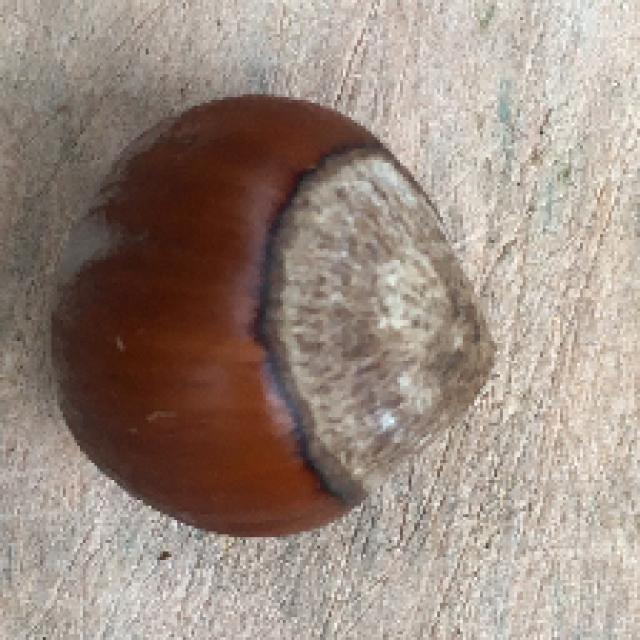QualityHazelnut: (48, 87, 497, 542)
